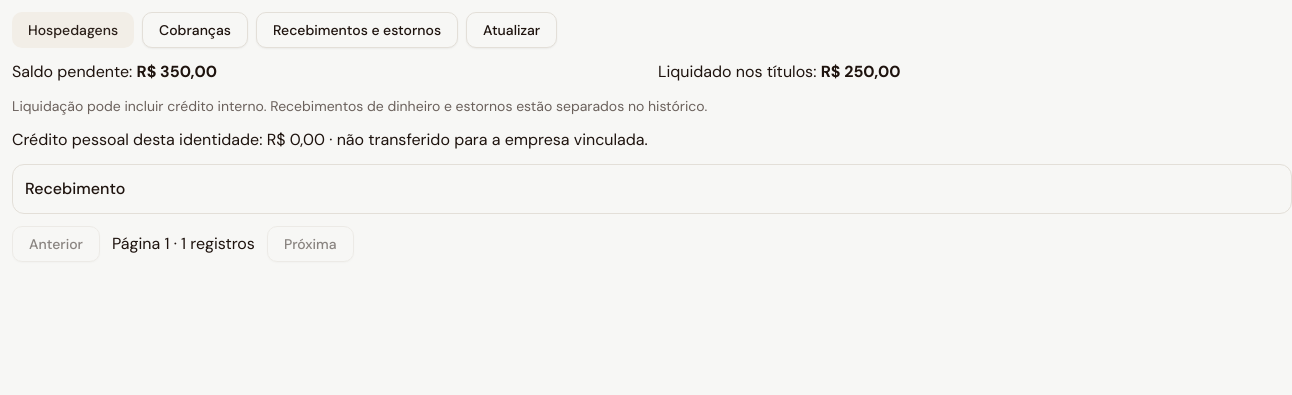
it: S6 — revisão, falha e acesso na interface › recebimento perto da virada UTC mostra o dia da pousada
Expected: the text "Recebimento" is shown, [25, 178, 125, 199]
What coordinates should you click on to do the following:
click the button "Recebimentos e estornos"
I would click on:
 (357, 30)
Its box is [256, 12, 458, 48].
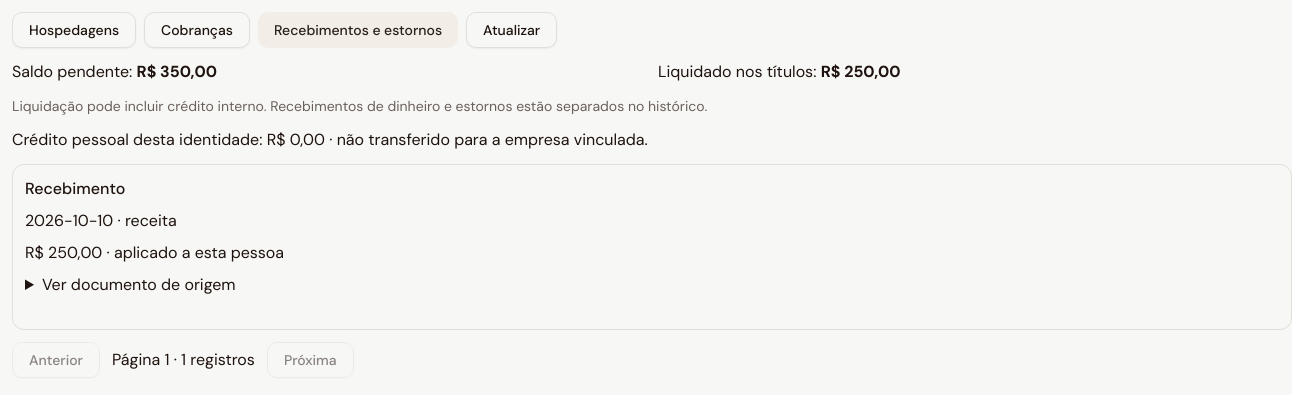
Expected: the text "2026-10-10 · receita" is shown, [25, 210, 177, 231]
